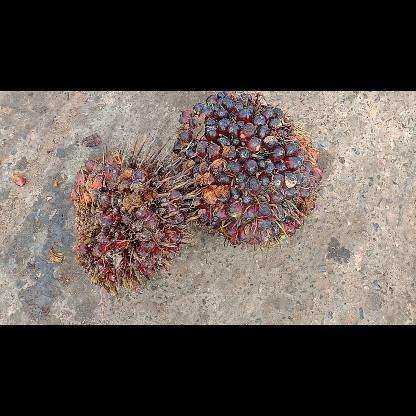Kurang masak: (172, 90, 322, 252)
TBS masak: (71, 139, 201, 297)
